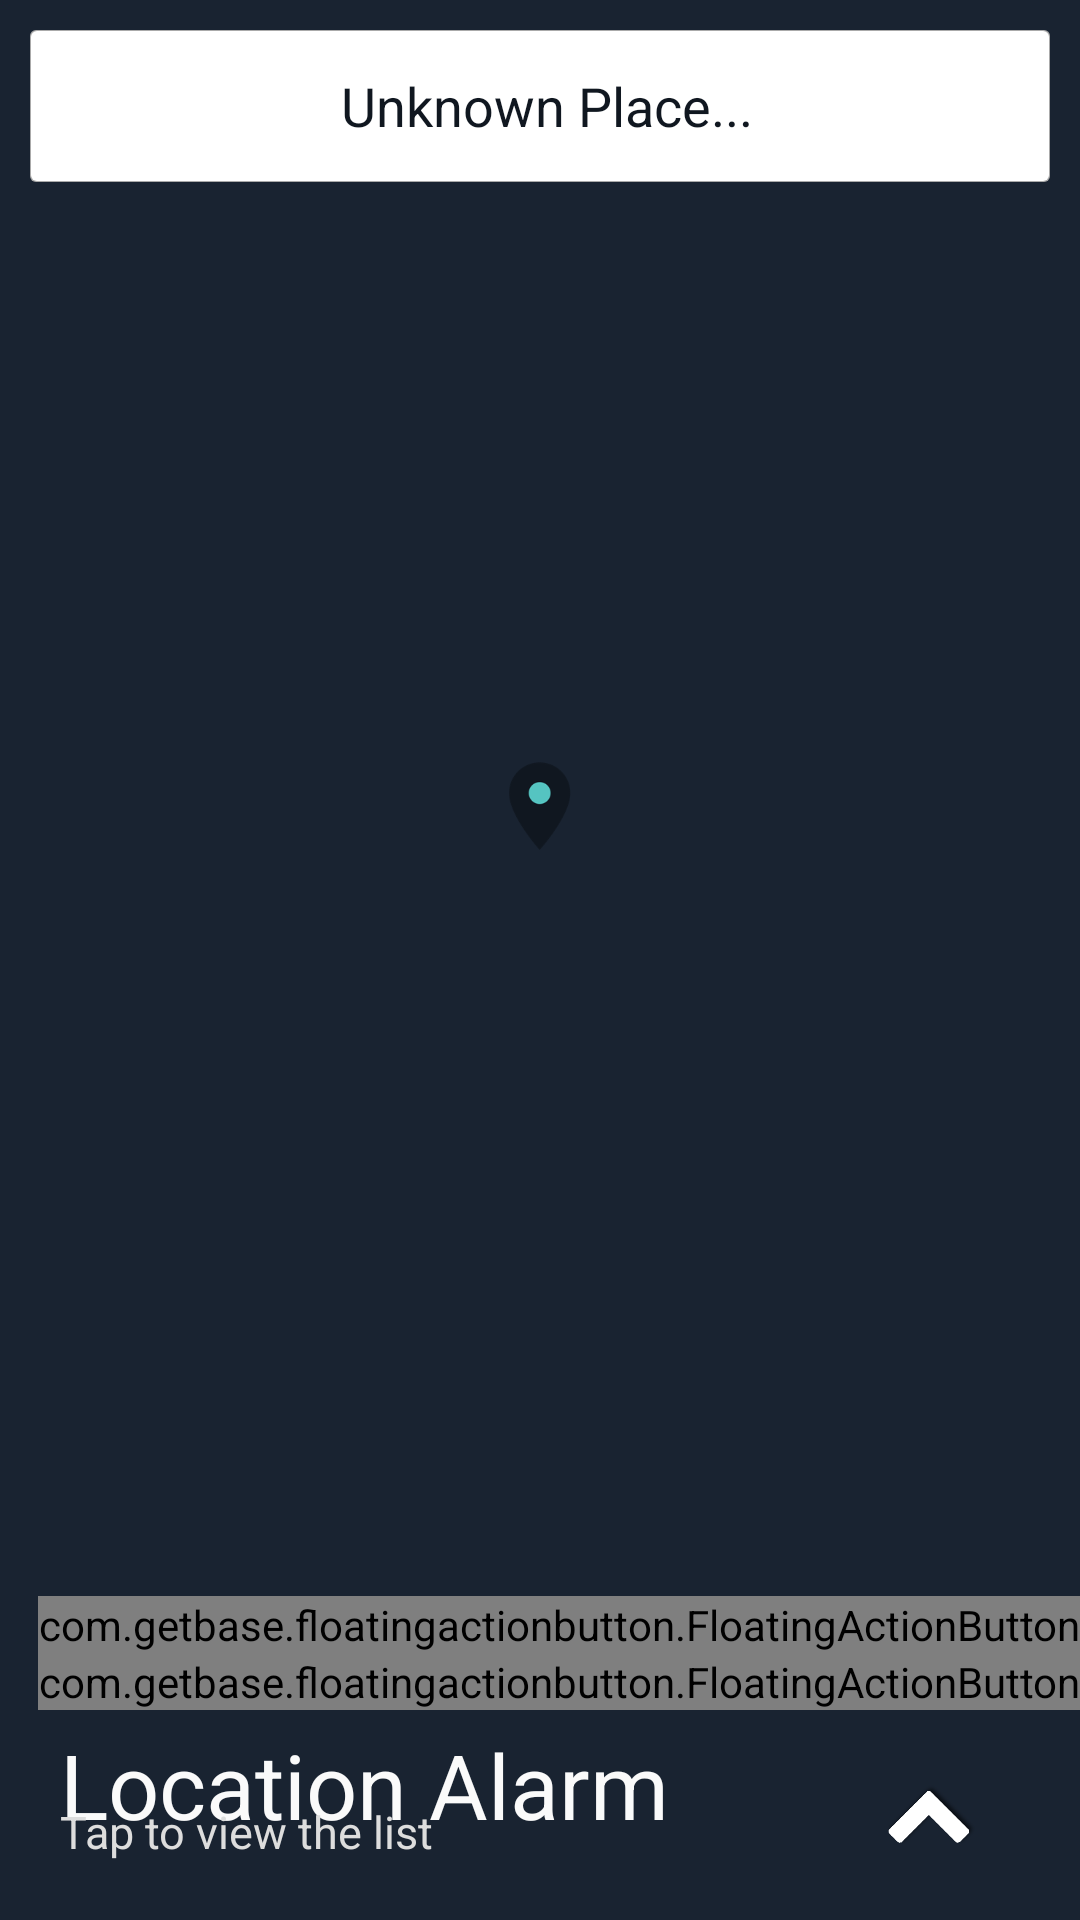

Locate icon controls on the screen. Image size 1080*1920, boxes as (x1, y1, x2, y2).
scroll up: (888, 1791, 969, 1843)
